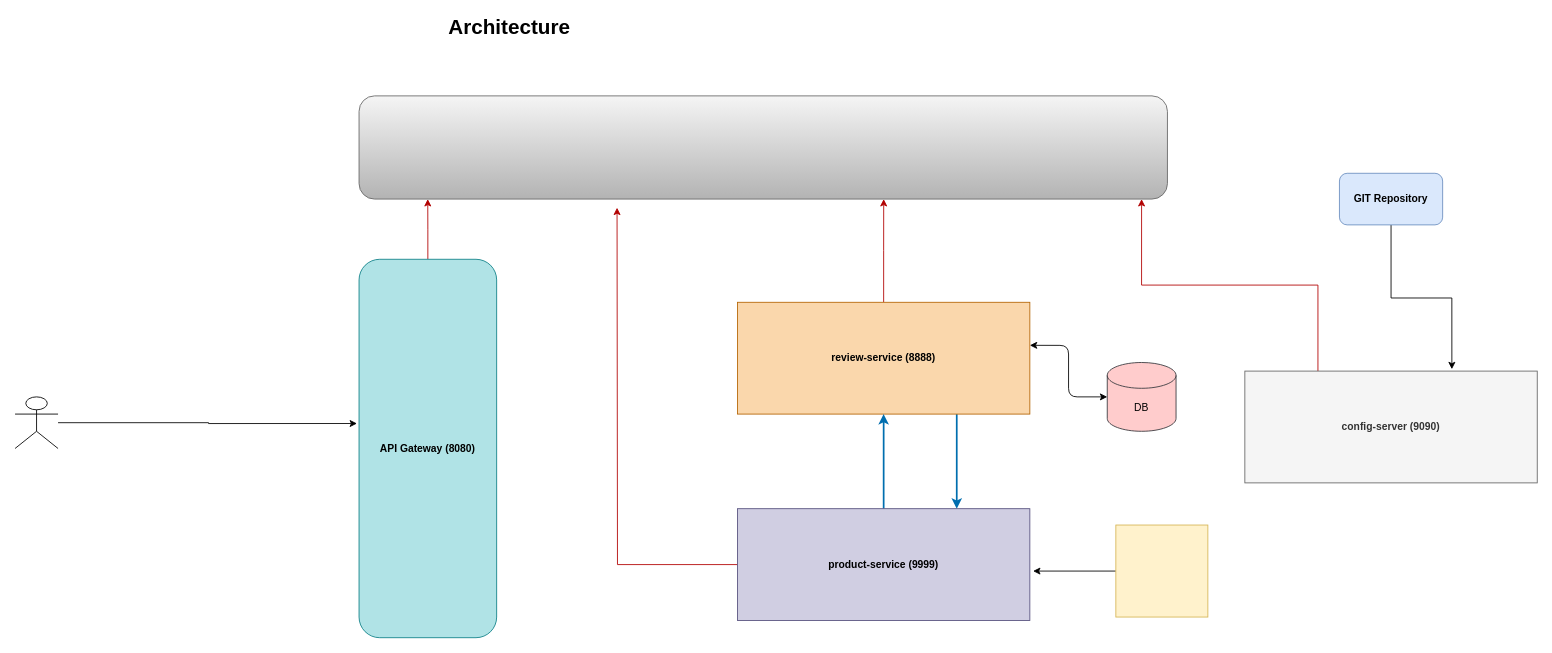
Some shapes in this 1552 by 653 pixel diagram are drawn without their labels. The centre of each missing label's shape, as x and y in pixels:
Client: point 36,422
External service (adidas live API): point 1161,570
Service Registry (service-registry) (8761): point 762,147
